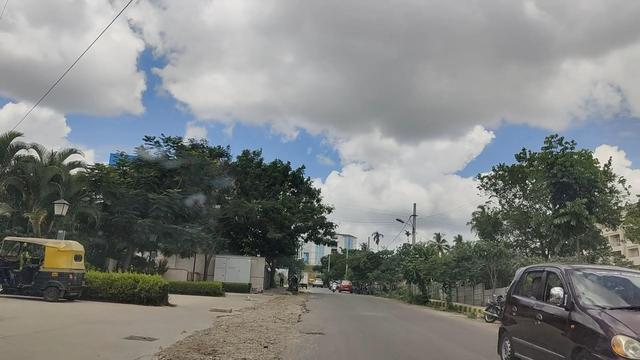RoadDamages: (253, 314, 332, 360), (267, 292, 346, 320)
